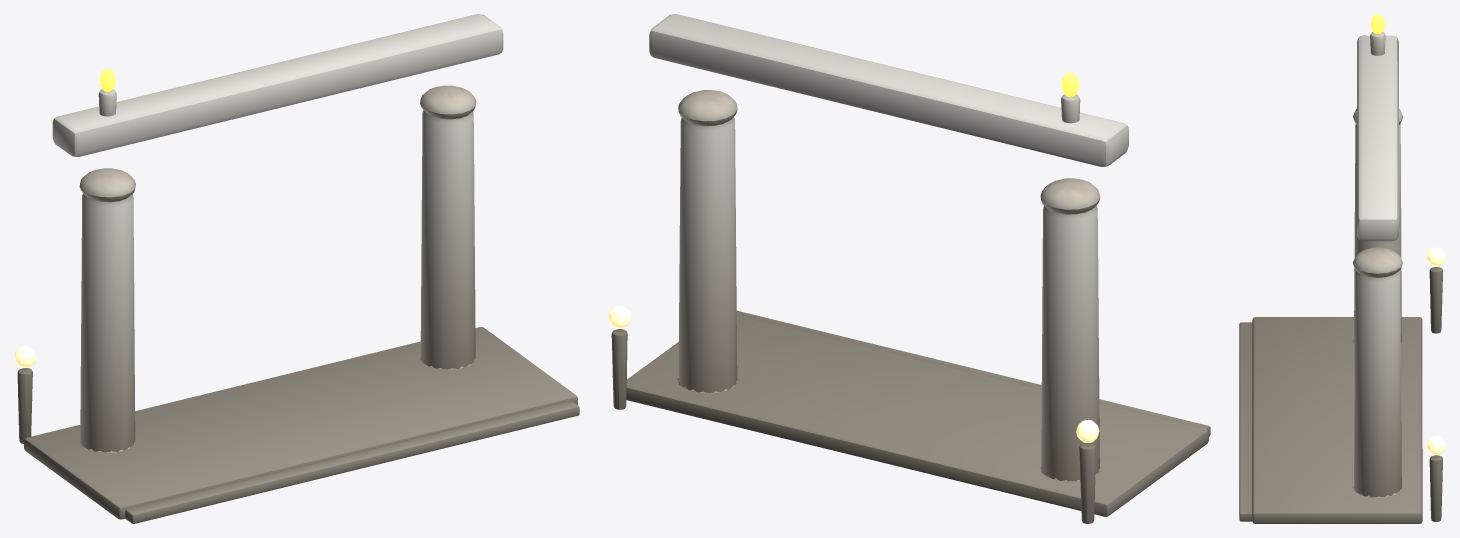
3 views of the same model, side by side, from view 1: azimuth 30°, elevation 25°; view 2: azimuth 150°, elevation 25°; view 3: azimuth 270°, elevation 25° (orthographic). The views are drawn at different scales.
Visible parts, largest first — view 1: gate_2ee5462d; view 2: gate_2ee5462d; view 3: gate_2ee5462d.
Part boxes in pixels (x1=…): gate_2ee5462d: x1=14, y1=14, x2=579, y2=523; gate_2ee5462d: x1=608, y1=14, x2=1210, y2=523; gate_2ee5462d: x1=1239, y1=14, x2=1445, y2=523.
Size of the model in its own units: 5.77 by 4.62 by 2.55.
